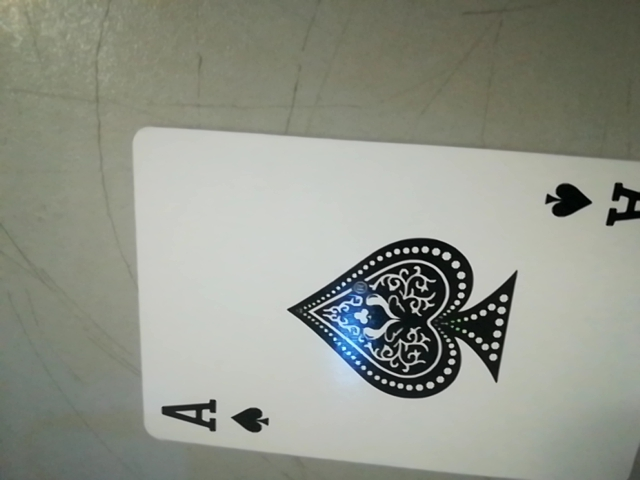ht a: (148, 391, 291, 449)
